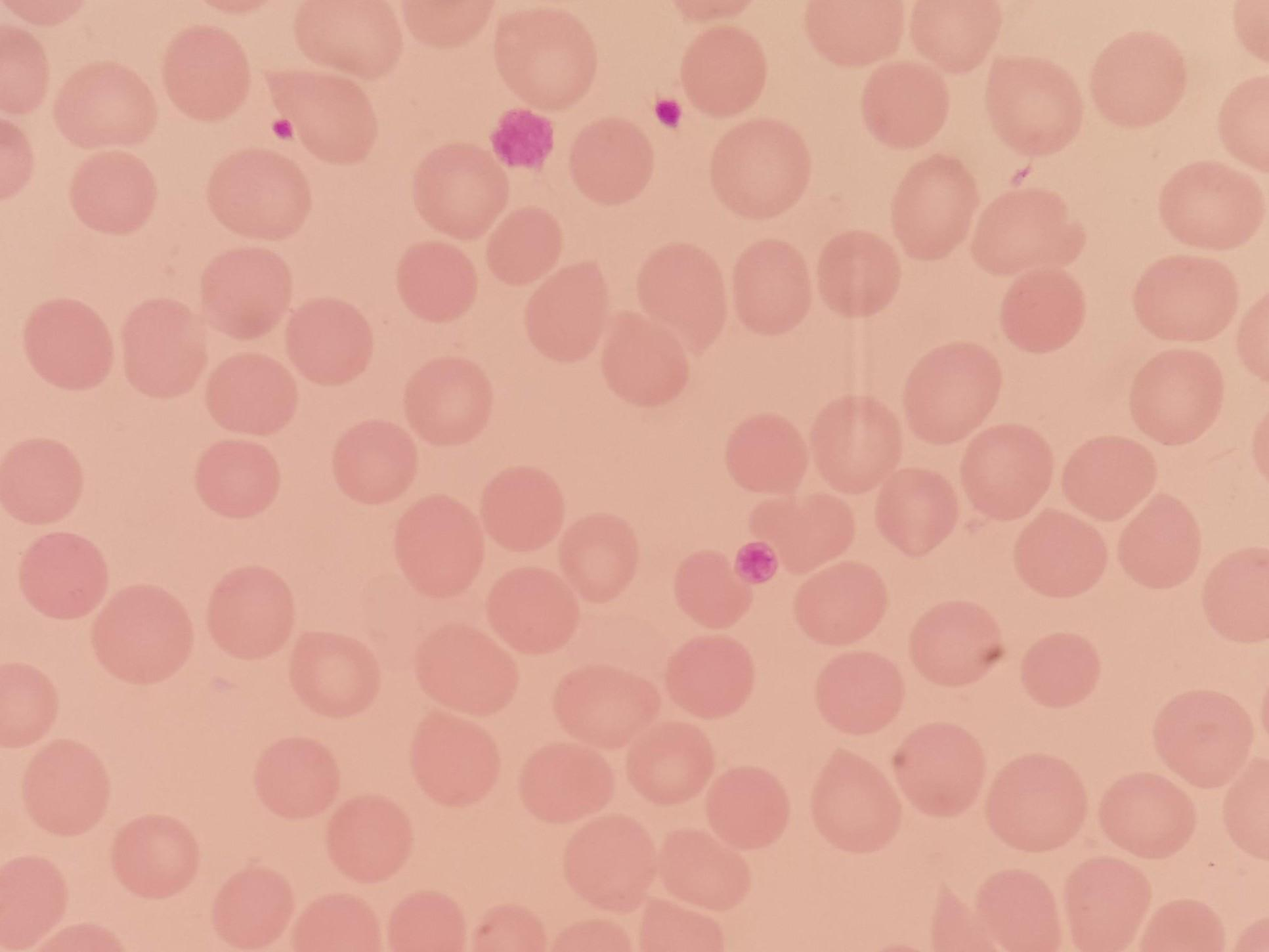Uninfected: (977, 184, 1087, 280), (92, 585, 193, 686), (51, 59, 160, 151), (1154, 688, 1252, 789), (206, 148, 311, 242), (711, 124, 812, 221), (396, 493, 485, 603), (1091, 31, 1189, 130), (988, 753, 1086, 852), (415, 618, 517, 713), (637, 245, 724, 356), (563, 816, 662, 912), (1160, 159, 1264, 250), (986, 60, 1084, 155), (496, 11, 596, 104), (411, 703, 502, 804), (908, 342, 998, 443), (810, 752, 897, 856), (204, 568, 302, 660), (1132, 348, 1225, 444), (292, 0, 402, 81), (961, 425, 1054, 520), (551, 664, 661, 744), (1100, 771, 1197, 860), (122, 298, 206, 400), (810, 398, 901, 491), (161, 27, 250, 122), (1060, 432, 1156, 520), (1135, 257, 1238, 339), (525, 263, 608, 364), (415, 141, 504, 235), (1014, 508, 1108, 596), (894, 157, 974, 260), (24, 298, 112, 391), (19, 532, 110, 621), (24, 742, 111, 835), (521, 742, 618, 825), (283, 298, 374, 386), (871, 464, 958, 556), (793, 559, 885, 646), (608, 314, 691, 410), (204, 249, 291, 340), (897, 720, 981, 814), (488, 570, 582, 654), (204, 352, 299, 435), (863, 59, 950, 149), (569, 116, 656, 206), (682, 25, 768, 116), (293, 634, 381, 722), (328, 795, 415, 884), (911, 603, 1001, 689), (732, 238, 812, 334), (296, 70, 377, 163), (1121, 492, 1202, 585), (207, 864, 296, 948), (817, 228, 903, 314), (479, 464, 565, 550), (724, 410, 811, 495), (410, 357, 493, 446), (115, 814, 201, 899), (768, 487, 855, 571), (977, 870, 1066, 952), (660, 828, 750, 909), (0, 853, 72, 952), (1068, 855, 1148, 944), (706, 767, 790, 851), (558, 512, 637, 601), (1002, 270, 1086, 353), (256, 738, 341, 820), (629, 724, 716, 804), (665, 635, 753, 714), (68, 156, 157, 234), (821, 653, 904, 736), (332, 420, 414, 504), (0, 441, 82, 524), (1202, 545, 1269, 641), (914, 3, 1002, 74), (197, 442, 280, 517), (397, 242, 476, 320), (674, 549, 752, 628), (1020, 630, 1101, 706), (807, 0, 903, 64), (489, 206, 558, 284), (0, 666, 61, 752), (385, 888, 466, 952), (303, 892, 375, 952)
